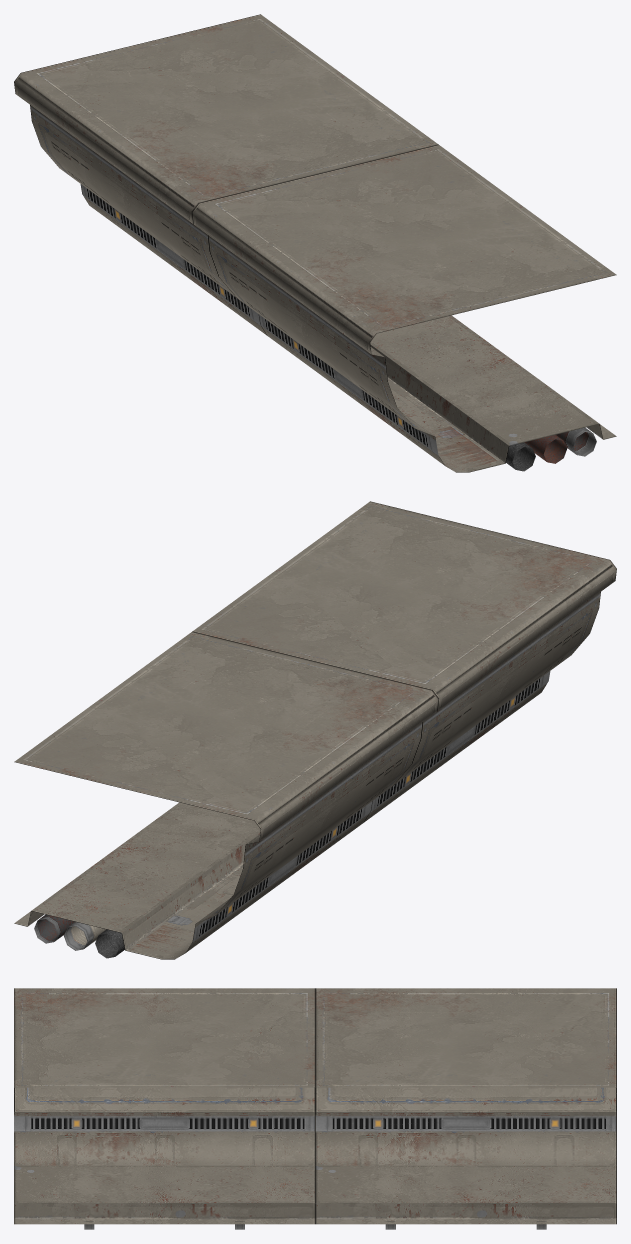
File: CP_Canopy_Industrial_8m_01.fbx
3 renders of one model, top to bottom at view 1: azimuth 30°, elevation 25°; view 2: azimuth 150°, elevation 25°; view 3: azimuth 270°, elevation 25°, orthographic. The views are drawn at different scales.
Parts seen in each view (by area): view 1: CP_Canopy_Industrial_8m_01_LOD0; view 2: CP_Canopy_Industrial_8m_01_LOD0; view 3: CP_Canopy_Industrial_8m_01_LOD0.
Part boxes in pixels (left/top/right/bottom): CP_Canopy_Industrial_8m_01_LOD0: left=14, top=14, right=616, bottom=472; CP_Canopy_Industrial_8m_01_LOD0: left=14, top=501, right=616, bottom=959; CP_Canopy_Industrial_8m_01_LOD0: left=14, top=988, right=616, bottom=1229.
Size of what is drawn, in the model's own units: 160 by 109 by 400.
